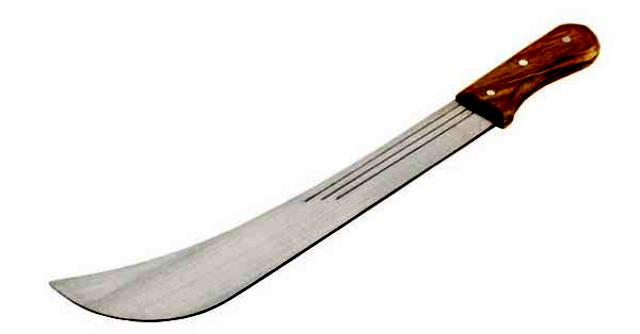long knife: (39, 15, 591, 324)
